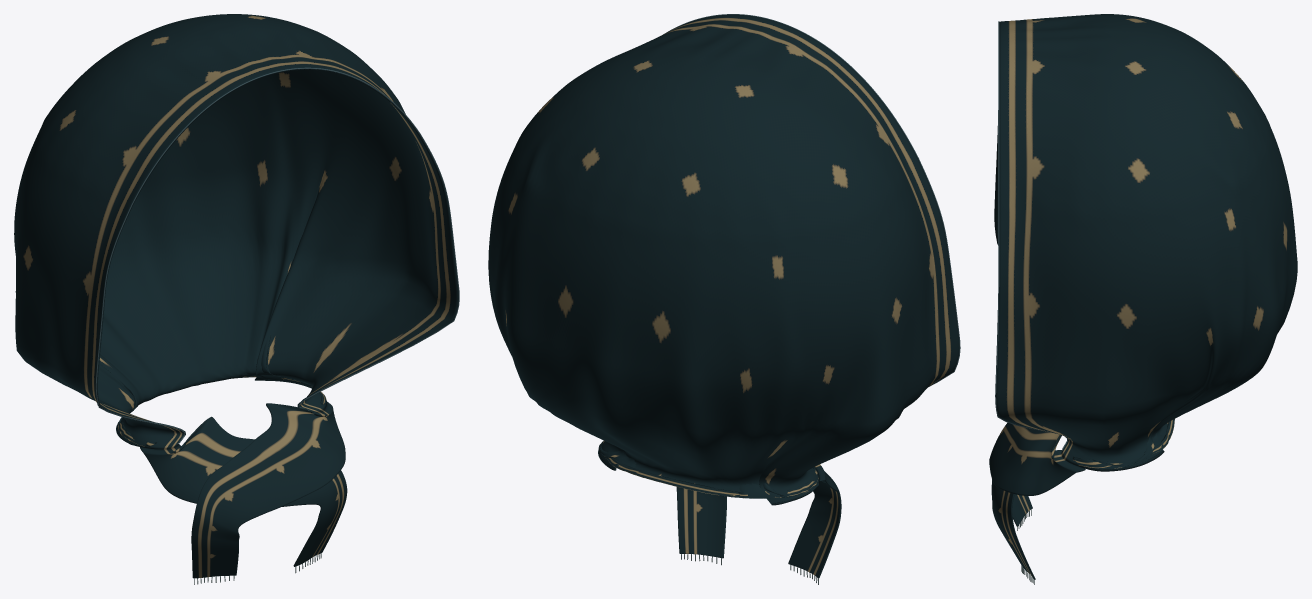
File: Feminine-tshirt-pashmina236-headgear.glb
The picture shows the model from 3 angles, left to right: view 1: azimuth 30°, elevation 25°; view 2: azimuth 150°, elevation 25°; view 3: azimuth 270°, elevation 25°; orthographic projection. The views are drawn at different scales.
Parts seen in each view (by area): view 1: 226 headgear / Headwear / continuous woven pashmina236, 226 headgear / Headwear / face edge236; view 2: 226 headgear / Headwear / continuous woven pashmina236, 226 headgear / Headwear / face edge236; view 3: 226 headgear / Headwear / continuous woven pashmina236, 226 headgear / Headwear / face edge236.
Boxes of the visible parts, x1,y1,x2,y2 form: 226 headgear / Headwear / continuous woven pashmina236: (14, 14, 458, 578); 226 headgear / Headwear / face edge236: (95, 67, 459, 443); 226 headgear / Headwear / continuous woven pashmina236: (488, 14, 959, 577); 226 headgear / Headwear / face edge236: (663, 14, 960, 386); 226 headgear / Headwear / continuous woven pashmina236: (989, 14, 1297, 579); 226 headgear / Headwear / face edge236: (995, 21, 1067, 449).
Bounding box in the file's own units: 1.02 × 1.35 × 0.7245.
3 materials, 1 textured.
